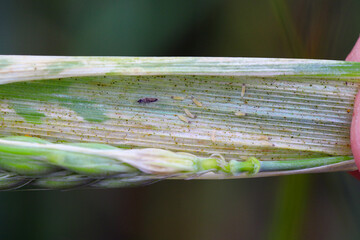Thrips: (162, 87, 212, 132), (252, 130, 282, 148), (128, 92, 165, 106), (237, 82, 251, 96), (232, 110, 249, 118)
